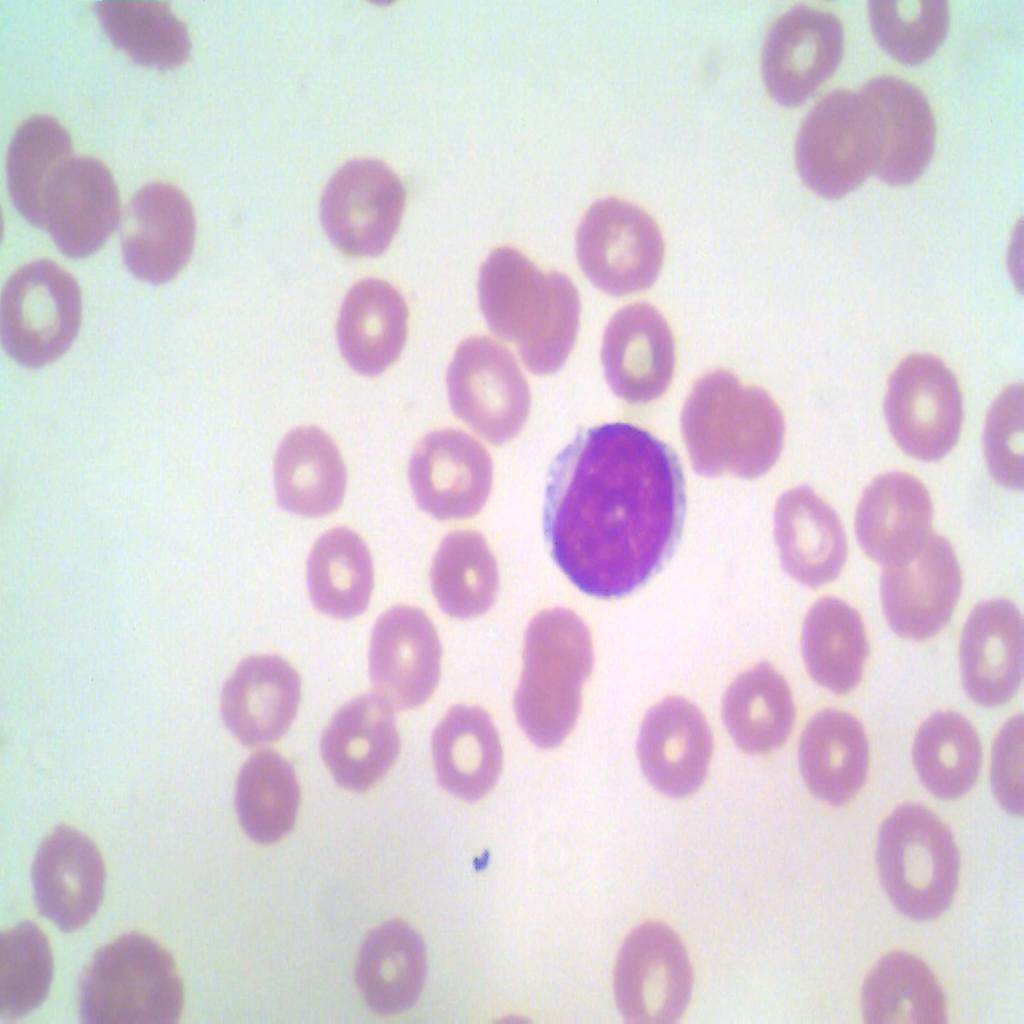Eritrosit: (319, 258, 419, 397), (0, 255, 108, 378), (566, 172, 672, 295), (58, 922, 184, 1023), (786, 88, 893, 194), (318, 142, 411, 260), (22, 818, 111, 941), (398, 412, 501, 517), (340, 912, 442, 1018), (266, 410, 360, 524), (758, 478, 858, 585), (848, 74, 936, 195), (866, 795, 956, 911), (222, 746, 314, 856), (874, 351, 966, 461), (606, 911, 696, 1023), (443, 332, 535, 438), (110, 181, 204, 284), (309, 691, 408, 787), (789, 704, 876, 811), (214, 646, 310, 742), (429, 690, 506, 808), (593, 299, 678, 405), (879, 535, 961, 642), (299, 524, 386, 624), (635, 691, 716, 798), (953, 597, 1023, 717), (913, 691, 990, 799), (762, 8, 848, 102), (38, 154, 119, 248), (98, 0, 195, 78), (366, 611, 444, 708), (420, 534, 506, 621), (474, 246, 550, 344), (861, 945, 956, 1023), (719, 388, 794, 486), (514, 275, 583, 381), (676, 372, 748, 472), (855, 459, 926, 559), (720, 654, 790, 749), (515, 602, 594, 684), (863, 0, 953, 71), (513, 657, 584, 746), (8, 115, 68, 216), (804, 591, 866, 687), (0, 939, 56, 1010)
Limfoblast: (538, 417, 690, 610)
Platelet: (461, 832, 496, 881)
